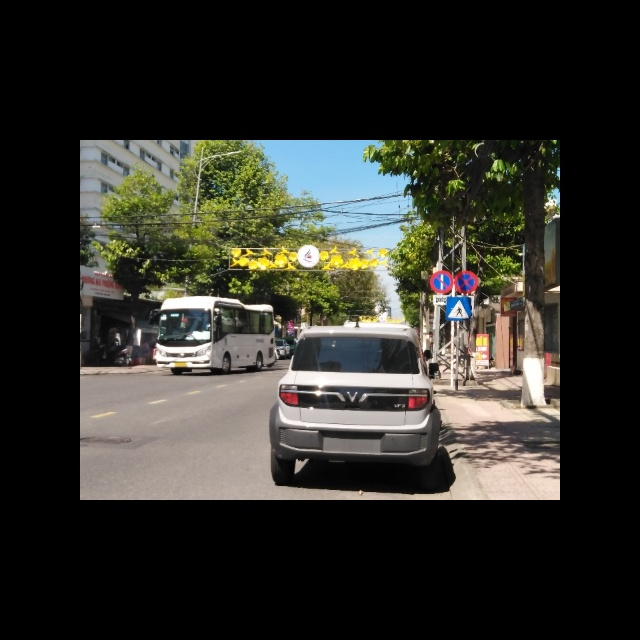Cấm dừng xe và đỗ xe: (454, 270, 479, 295)
Cấm đỗ xe ngày lẻ: (430, 270, 453, 294)
Đường dành cho người đi bộ: (446, 296, 472, 322)
